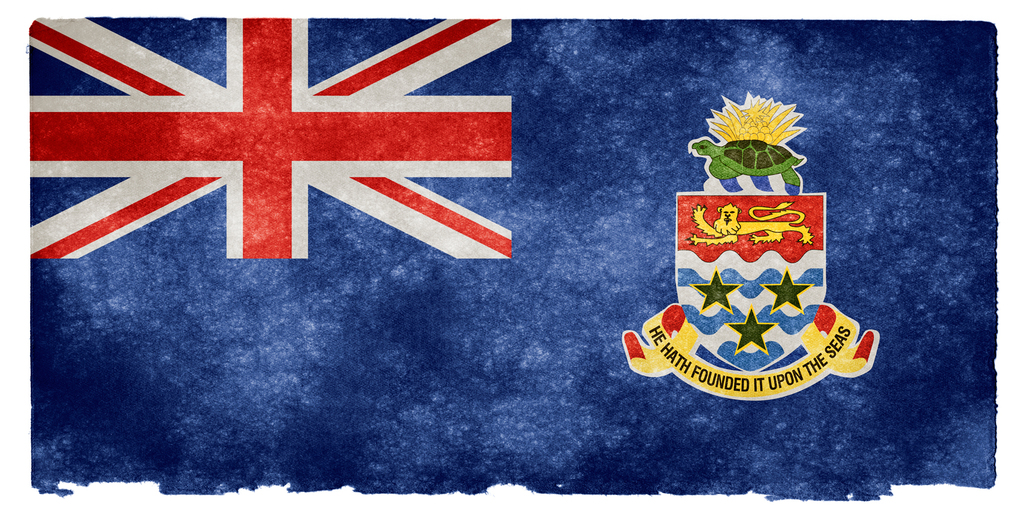Sea turtles: (687, 137, 805, 191)
